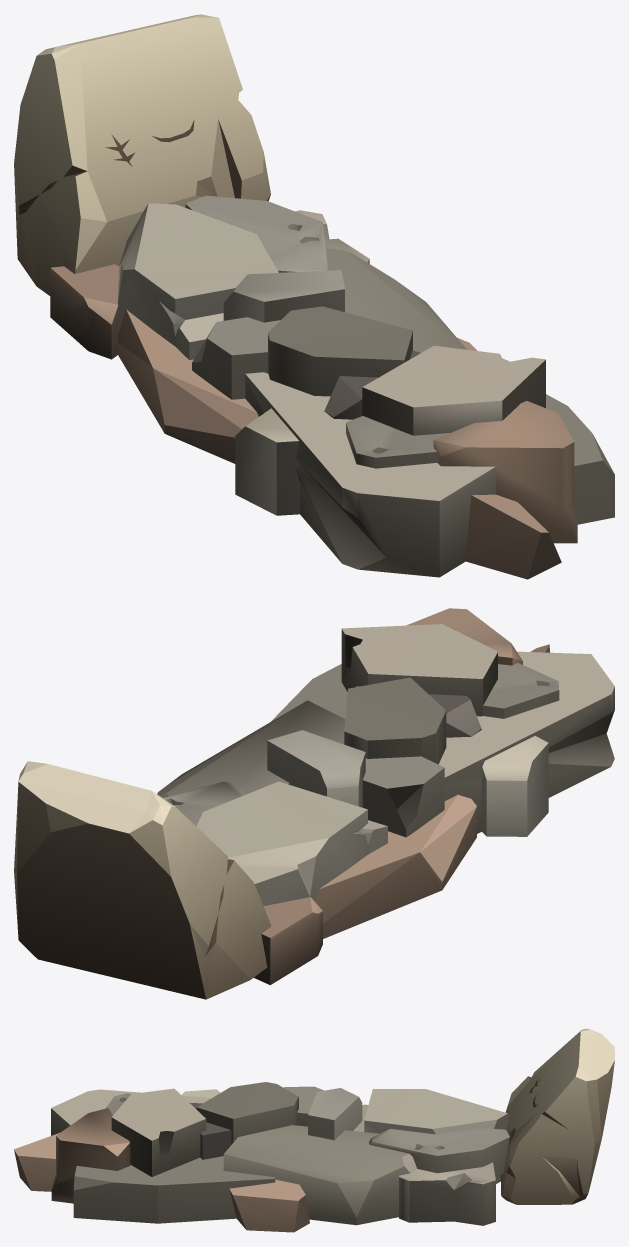
The model's file is Grave_1C.fbx.
3 renders of one model, top to bottom at view 1: azimuth 30°, elevation 25°; view 2: azimuth 150°, elevation 25°; view 3: azimuth 270°, elevation 25°, orthographic. The views are drawn at different scales.
Visible parts, largest first — view 1: Grave_1C; view 2: Grave_1C; view 3: Grave_1C.
Boxes of the visible parts, <box> form: Grave_1C: <box>14,14,614,579</box>; Grave_1C: <box>14,608,614,999</box>; Grave_1C: <box>14,1028,614,1232</box>.
Size of the model in its own units: 115 by 81.44 by 301.
